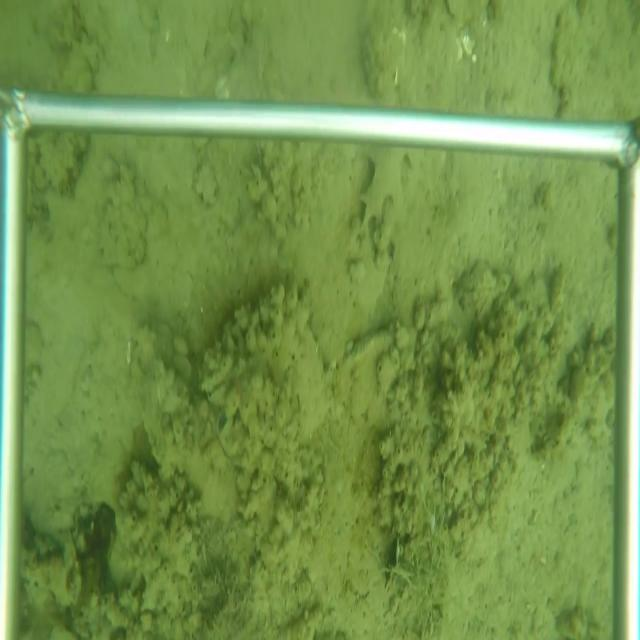Oyster-Indeterminate: (200, 297, 330, 440), (357, 4, 409, 105), (342, 327, 396, 421)
